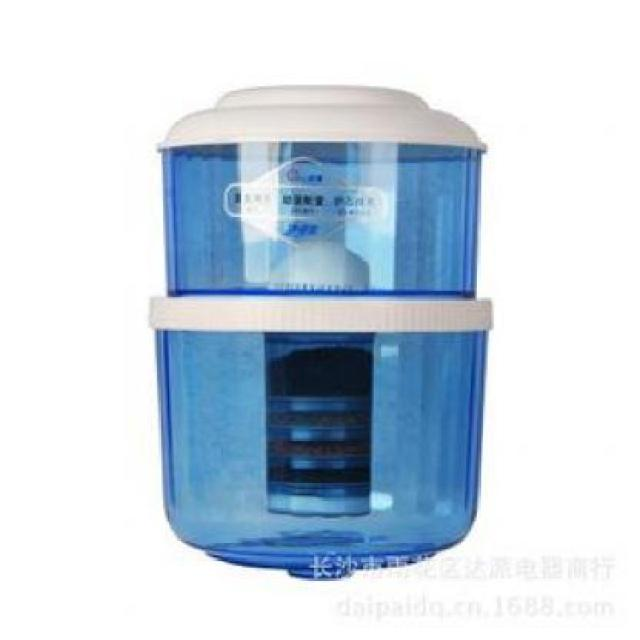coolerbottle: (144, 77, 496, 583)
